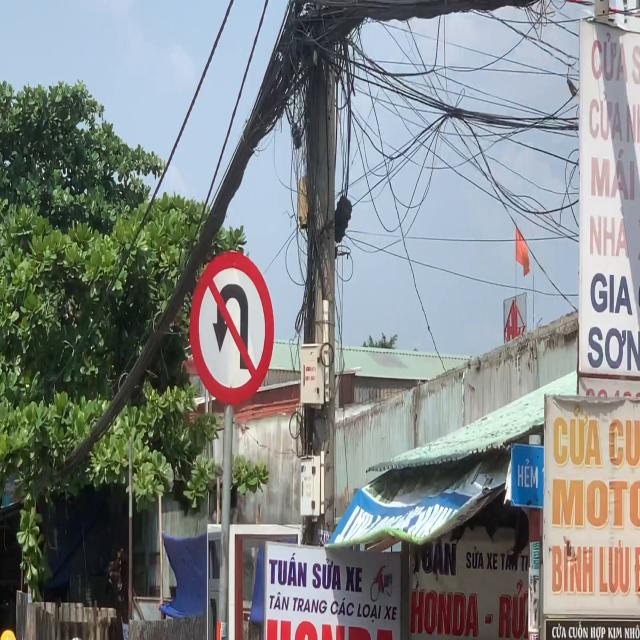Cam quay dau xe: (190, 252, 274, 406)
